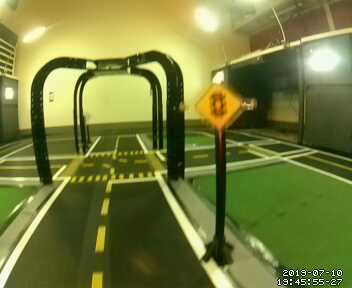Traffic light sign: (195, 81, 242, 126)
